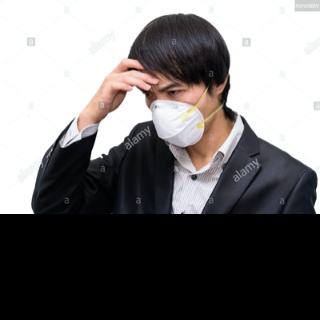with_mask: (146, 80, 216, 148)
